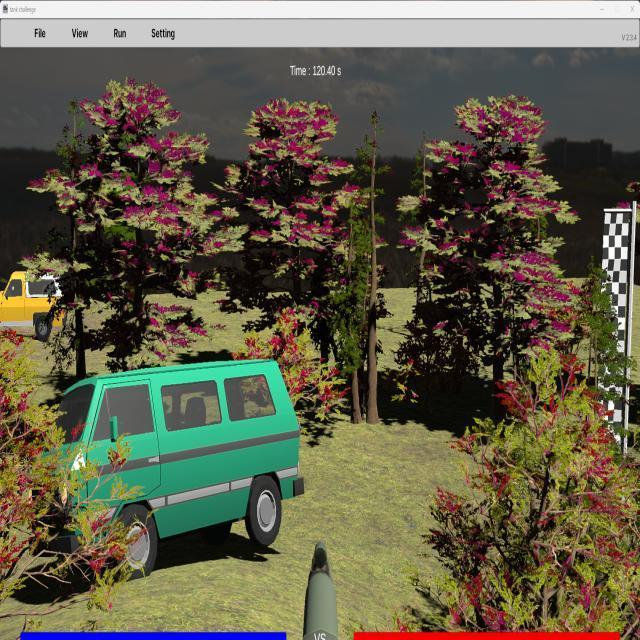car: (53, 360, 303, 577), (0, 271, 71, 343)
